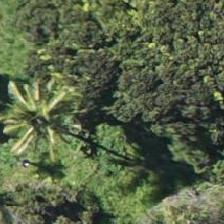coconut_tree: (0, 75, 86, 165)
